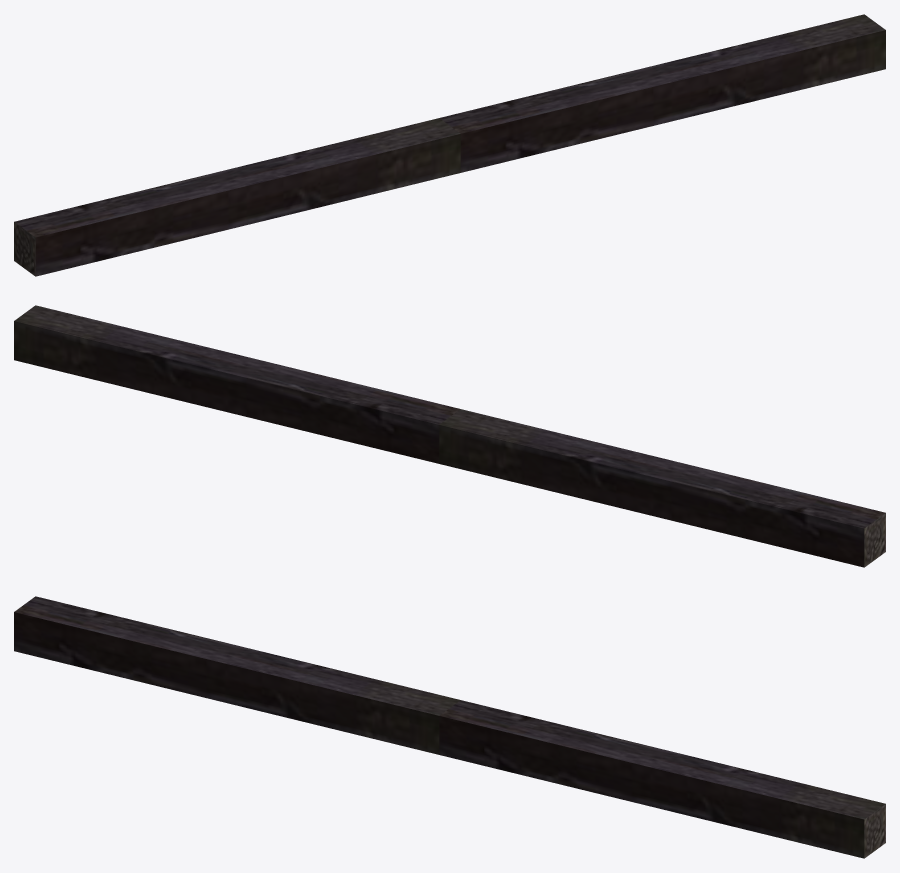
Rendered from Battle05_Other_06.FBX.
3 renders of one model, top to bottom at view 1: azimuth 30°, elevation 25°; view 2: azimuth 150°, elevation 25°; view 3: azimuth 330°, elevation 25°, orthographic.
Visible parts, largest first — view 1: Battle05_Other_06; view 2: Battle05_Other_06; view 3: Battle05_Other_06.
Boxes of the visible parts, box(x1,y1,x2,y2) form: Battle05_Other_06: box(14, 14, 885, 276); Battle05_Other_06: box(14, 305, 885, 567); Battle05_Other_06: box(14, 596, 885, 858).
Bounding box in the file's own units: 22.75 × 1 × 1.
